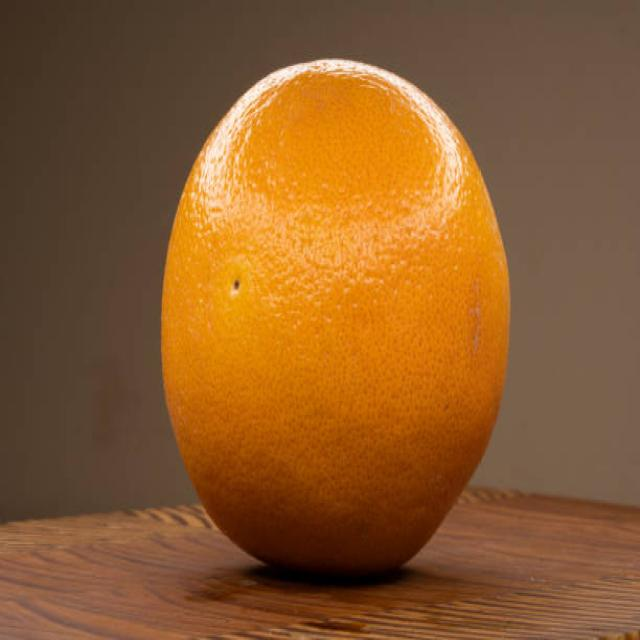Good_Orange: (160, 60, 511, 585)
